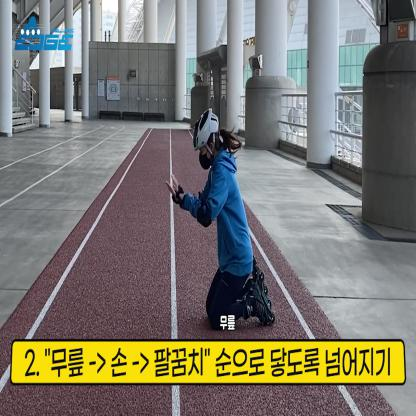Fall_Down: (165, 112, 274, 329)
